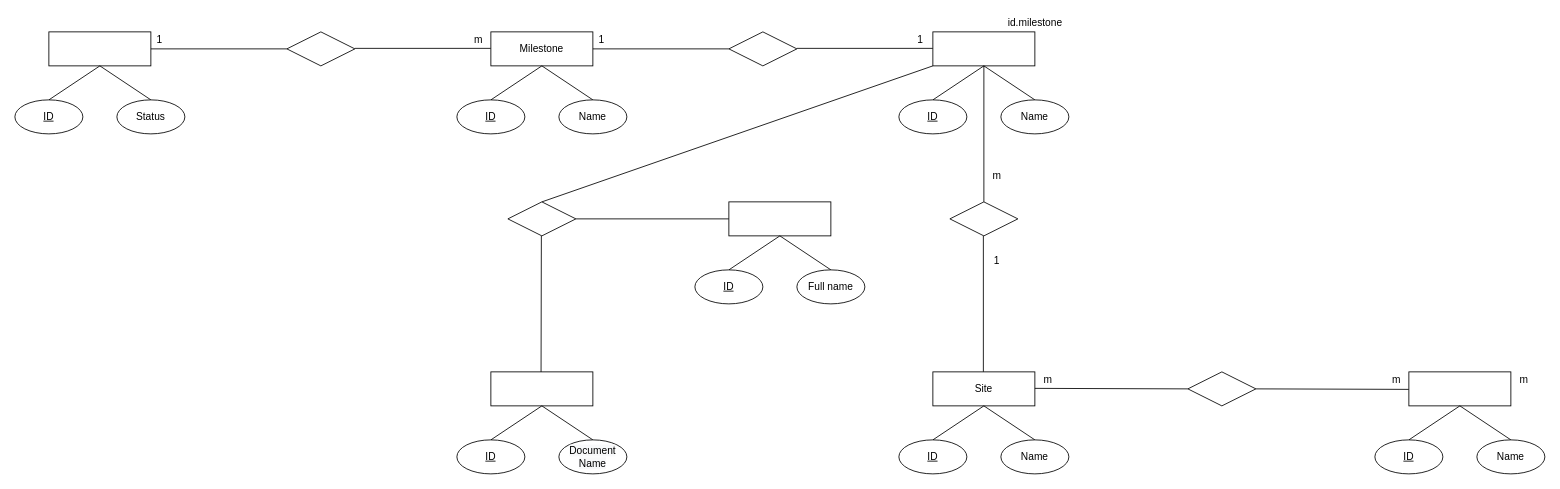
This 1560x489 diagram has some shape labels left out. The shapes that lost their labels are listed below. From the top down, each one's box as (x1, y1, x2, y2) in pixels, then its label:
(48, 31, 151, 66): Sub Milestone
(932, 31, 1035, 66): Candidate
(728, 201, 831, 236): Employee
(490, 371, 593, 406): Document
(1408, 371, 1511, 406): Tenant
